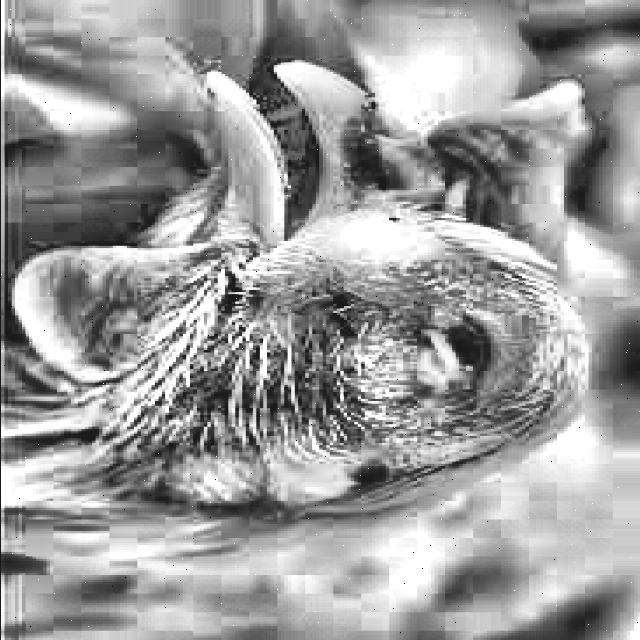Coryza: (24, 28, 610, 582)
